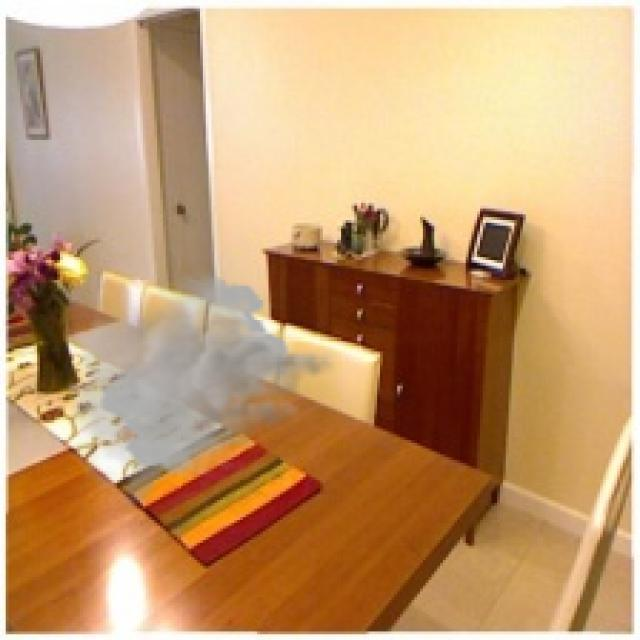Smoke: (63, 272, 343, 508)
